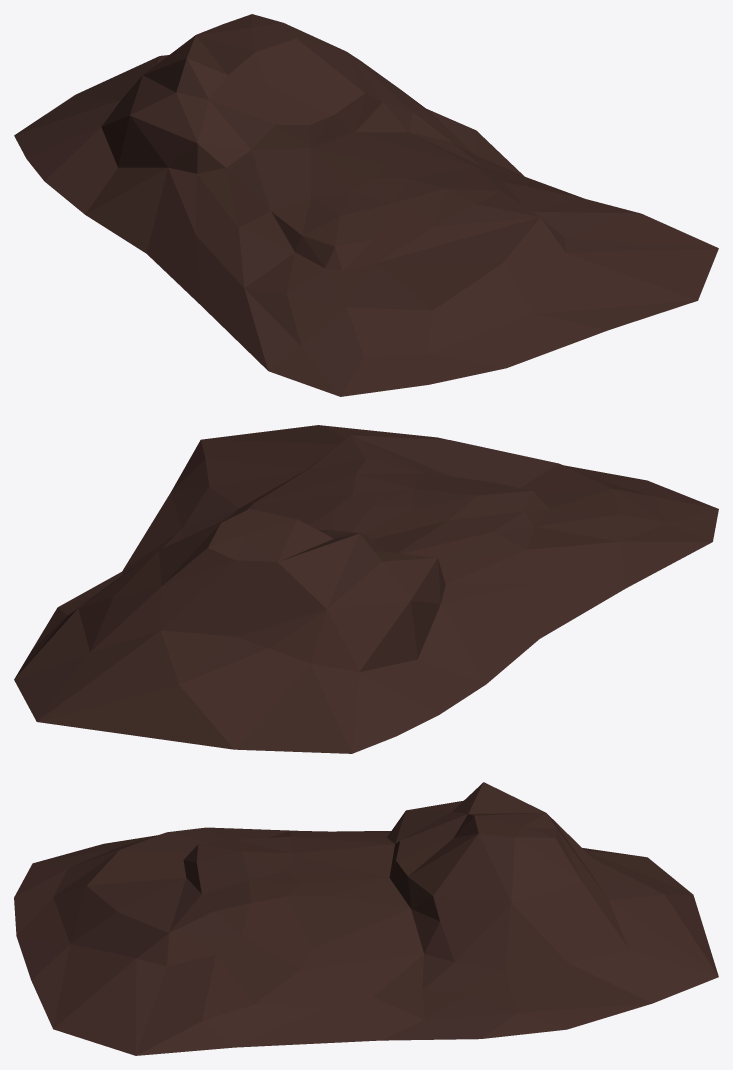
The model's file is Brown_sand_001.fbx.
The picture shows the model from 3 angles, top to bottom: view 1: azimuth 30°, elevation 25°; view 2: azimuth 150°, elevation 25°; view 3: azimuth 270°, elevation 25°; orthographic projection. The views are drawn at different scales.
Parts seen in each view (by area): view 1: Brown_sand_001; view 2: Brown_sand_001; view 3: Brown_sand_001.
Part boxes in pixels (x1,y1,x2,y2): Brown_sand_001: (14,14,718,396); Brown_sand_001: (14,425,718,753); Brown_sand_001: (14,782,718,1055).
Bounding box in the file's own units: 3525 × 5042 × 1051.
